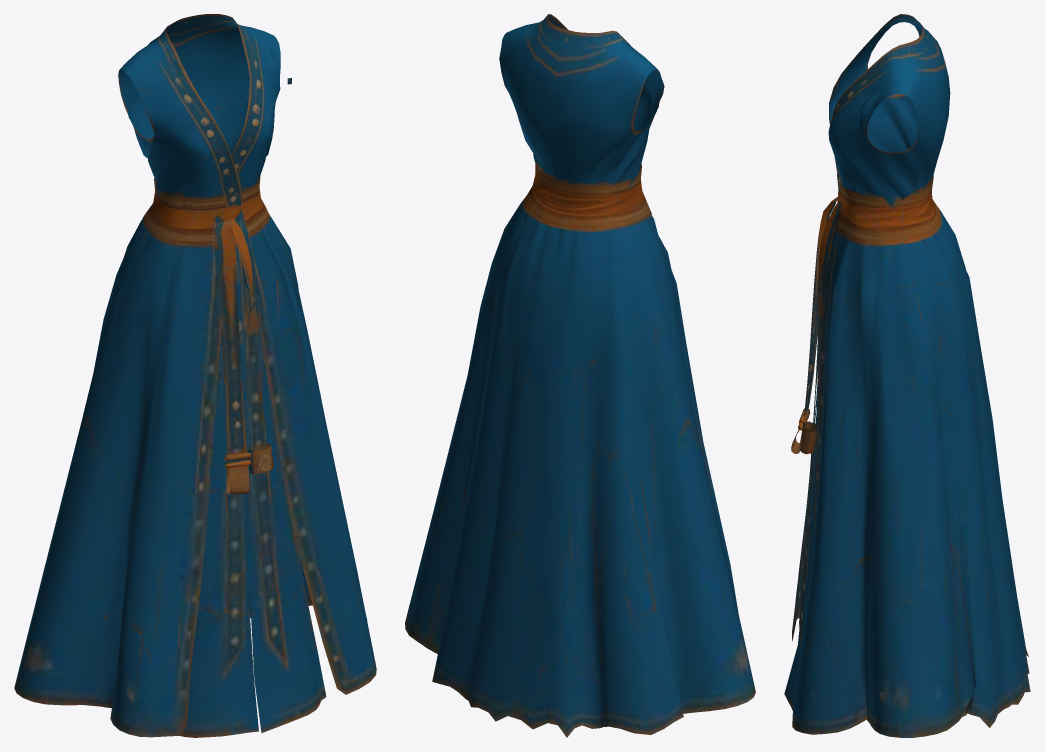
File: cloth_legs2.glb
3 renders of one model, left to right at view 1: azimuth 30°, elevation 25°; view 2: azimuth 150°, elevation 25°; view 3: azimuth 270°, elevation 25°, orthographic.
Size of the model in its own units: 0.5098 by 0.9517 by 0.3203.
Materials: 1 (1 with a texture image).
